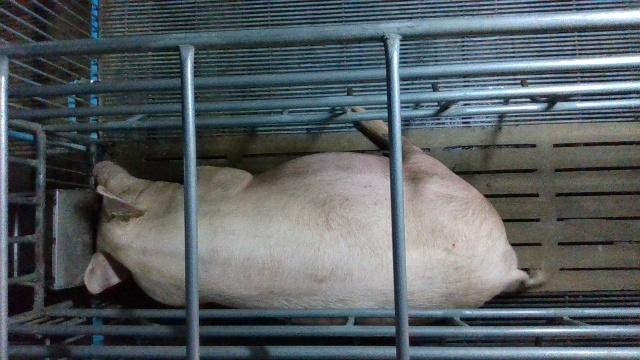sow-sleep: (83, 109, 548, 324)
